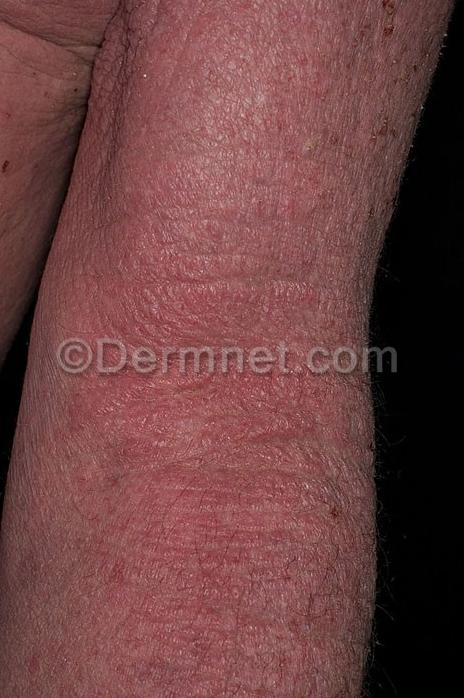eritema 3: (0, 0, 445, 698)
exudacion 1: (364, 0, 402, 47)
xerosis 1: (367, 0, 461, 290)
